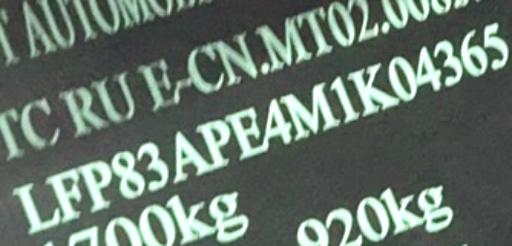letter: (278, 78, 344, 142), (345, 57, 403, 118), (8, 179, 64, 234), (224, 102, 268, 160), (194, 117, 240, 169), (44, 166, 84, 223), (170, 131, 210, 186), (78, 156, 118, 211), (110, 145, 148, 200), (259, 95, 295, 153), (136, 136, 172, 191), (458, 28, 490, 83), (330, 72, 362, 124), (482, 19, 510, 78), (414, 42, 444, 97), (388, 53, 420, 102), (434, 36, 462, 87)
